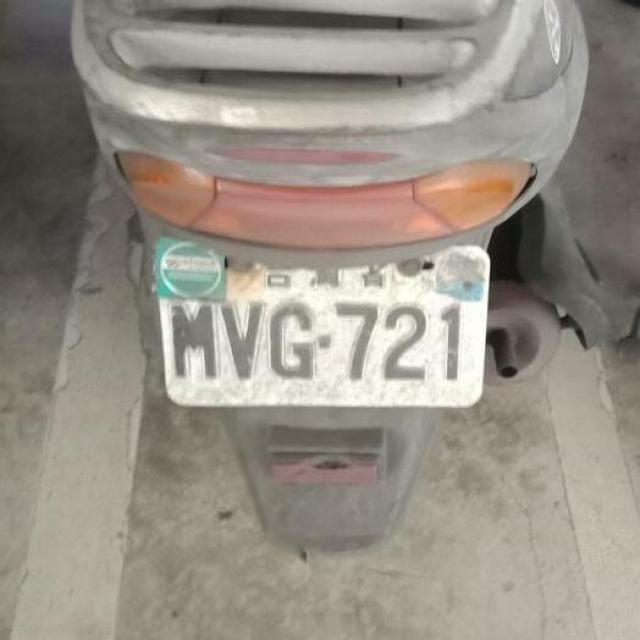W: (132, 211, 501, 430)
